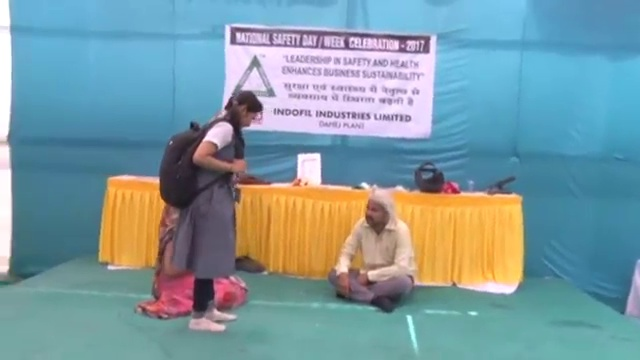helmet_off: (222, 91, 262, 130), (364, 195, 391, 232)
person: (158, 91, 263, 335), (329, 194, 415, 313)
